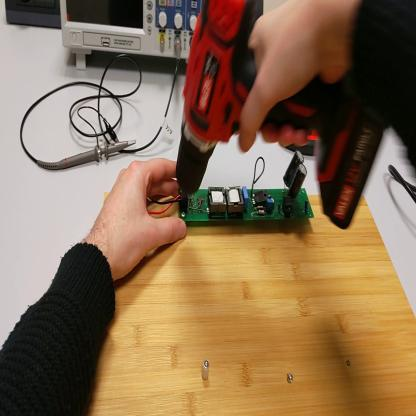electric screwdriver: (176, 1, 377, 231)
hand: (237, 3, 358, 151), (91, 156, 186, 280)
high voltage board: (148, 151, 316, 224)
oscilloscope: (60, 3, 202, 69)
oscilloscope probe tip: (55, 135, 145, 169)
socket: (6, 1, 62, 32)
working area: (85, 194, 416, 416)
